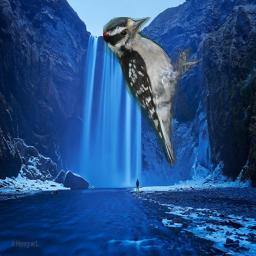Woodpecker: (103, 17, 199, 168)
